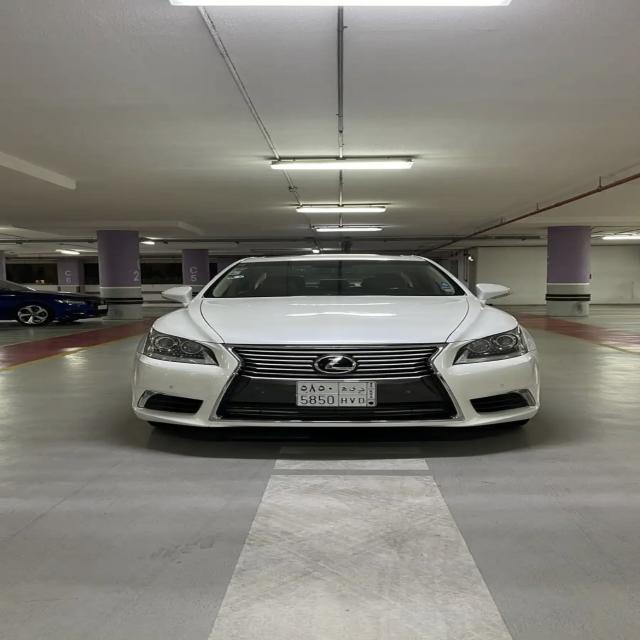license_plate: (296, 382, 377, 406)
